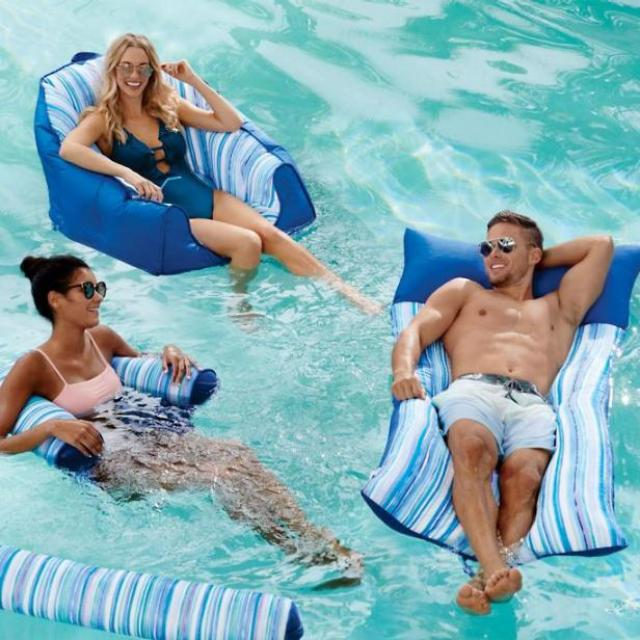adult: (1, 253, 350, 579), (61, 34, 391, 322), (391, 208, 615, 614)
